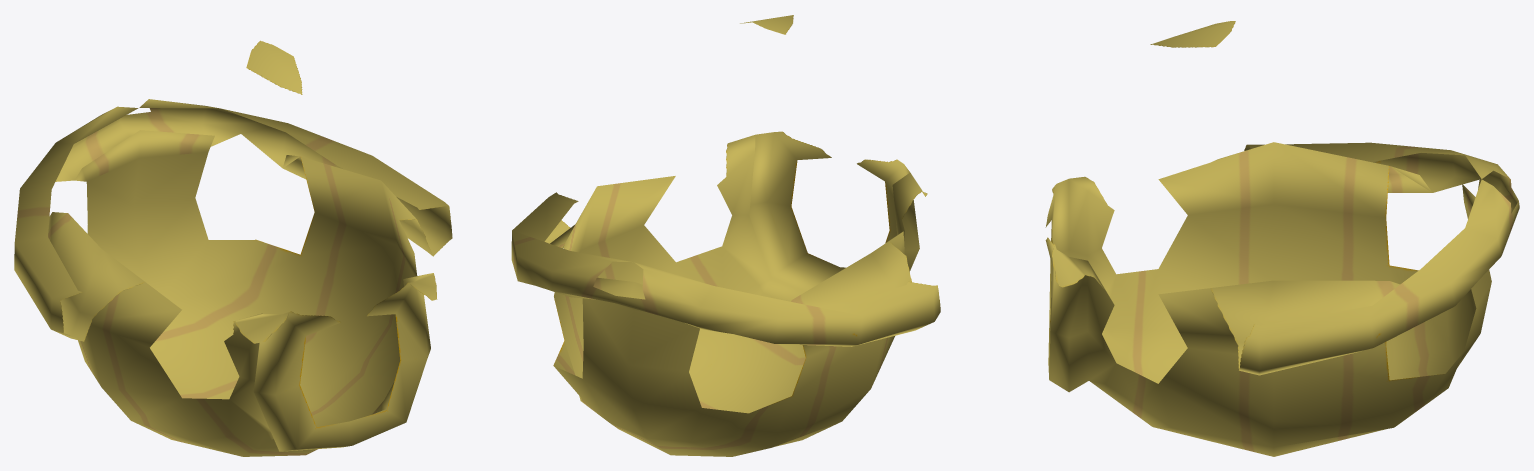
The model's file is Koopa_Troops_02_등딱지 1.fbx.
The picture shows the model from 3 angles, left to right: view 1: azimuth 30°, elevation 25°; view 2: azimuth 150°, elevation 25°; view 3: azimuth 270°, elevation 25°; orthographic projection. The views are drawn at different scales.
Parts seen in each view (by area): view 1: Object005; view 2: Object005; view 3: Object005.
Part boxes in pixels (<box>): Object005: <box>14,40,452,456</box>; Object005: <box>511,15,940,456</box>; Object005: <box>1045,21,1519,456</box>.
Size of the model in its own units: 56.93 by 57.63 by 63.98.
